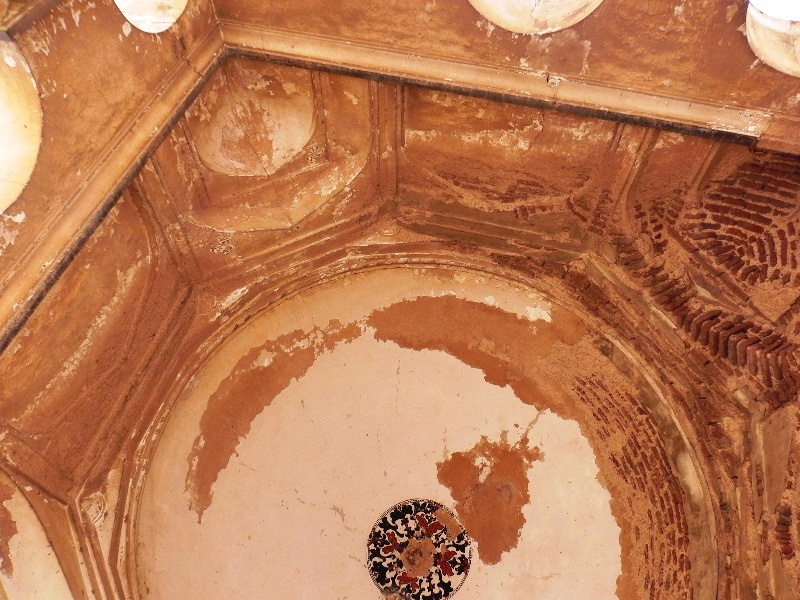Exposed Bricks: (611, 142, 799, 388), (591, 391, 692, 594)
Spalling: (173, 323, 357, 526), (430, 431, 552, 503)
